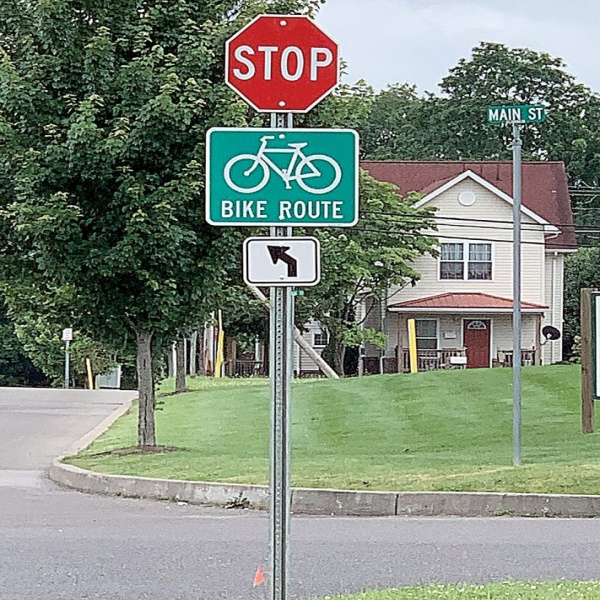stop: (224, 14, 349, 112)
